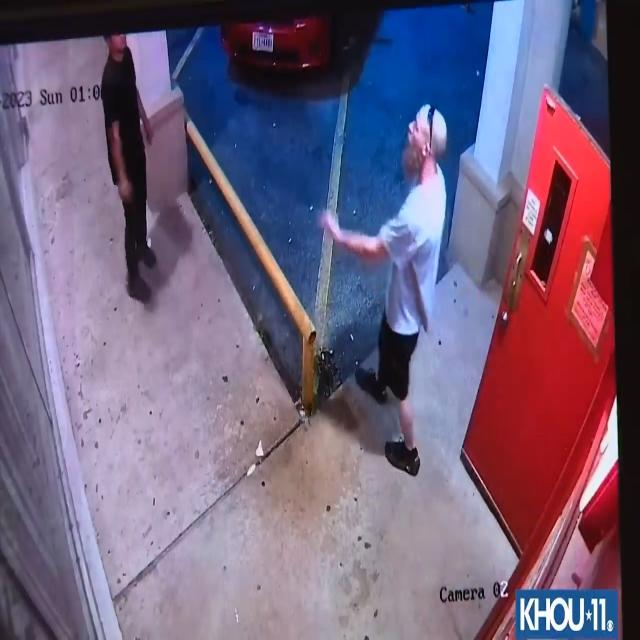Person: (321, 99, 446, 483), (96, 32, 159, 297)
